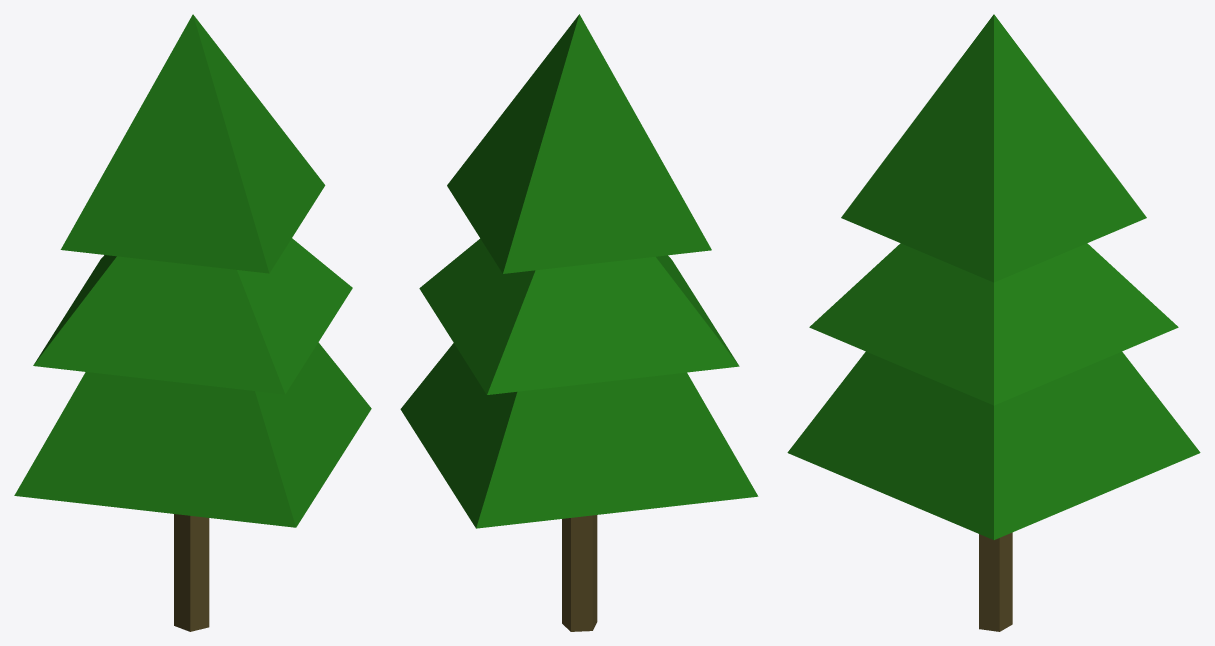
File: TreeShape3_Dark.fbx
3 views of the same model, side by side, from view 1: azimuth 30°, elevation 25°; view 2: azimuth 150°, elevation 25°; view 3: azimuth 270°, elevation 25° (orthographic).
Visible parts, largest first — view 1: TreeShape3_Dark; view 2: TreeShape3_Dark; view 3: TreeShape3_Dark.
Part boxes in pixels (left/top/right/bottom): TreeShape3_Dark: left=14, top=14, right=371, bottom=631; TreeShape3_Dark: left=400, top=14, right=758, bottom=631; TreeShape3_Dark: left=787, top=14, right=1200, bottom=631.
Size of the model in its own units: 253 by 413 by 253.
